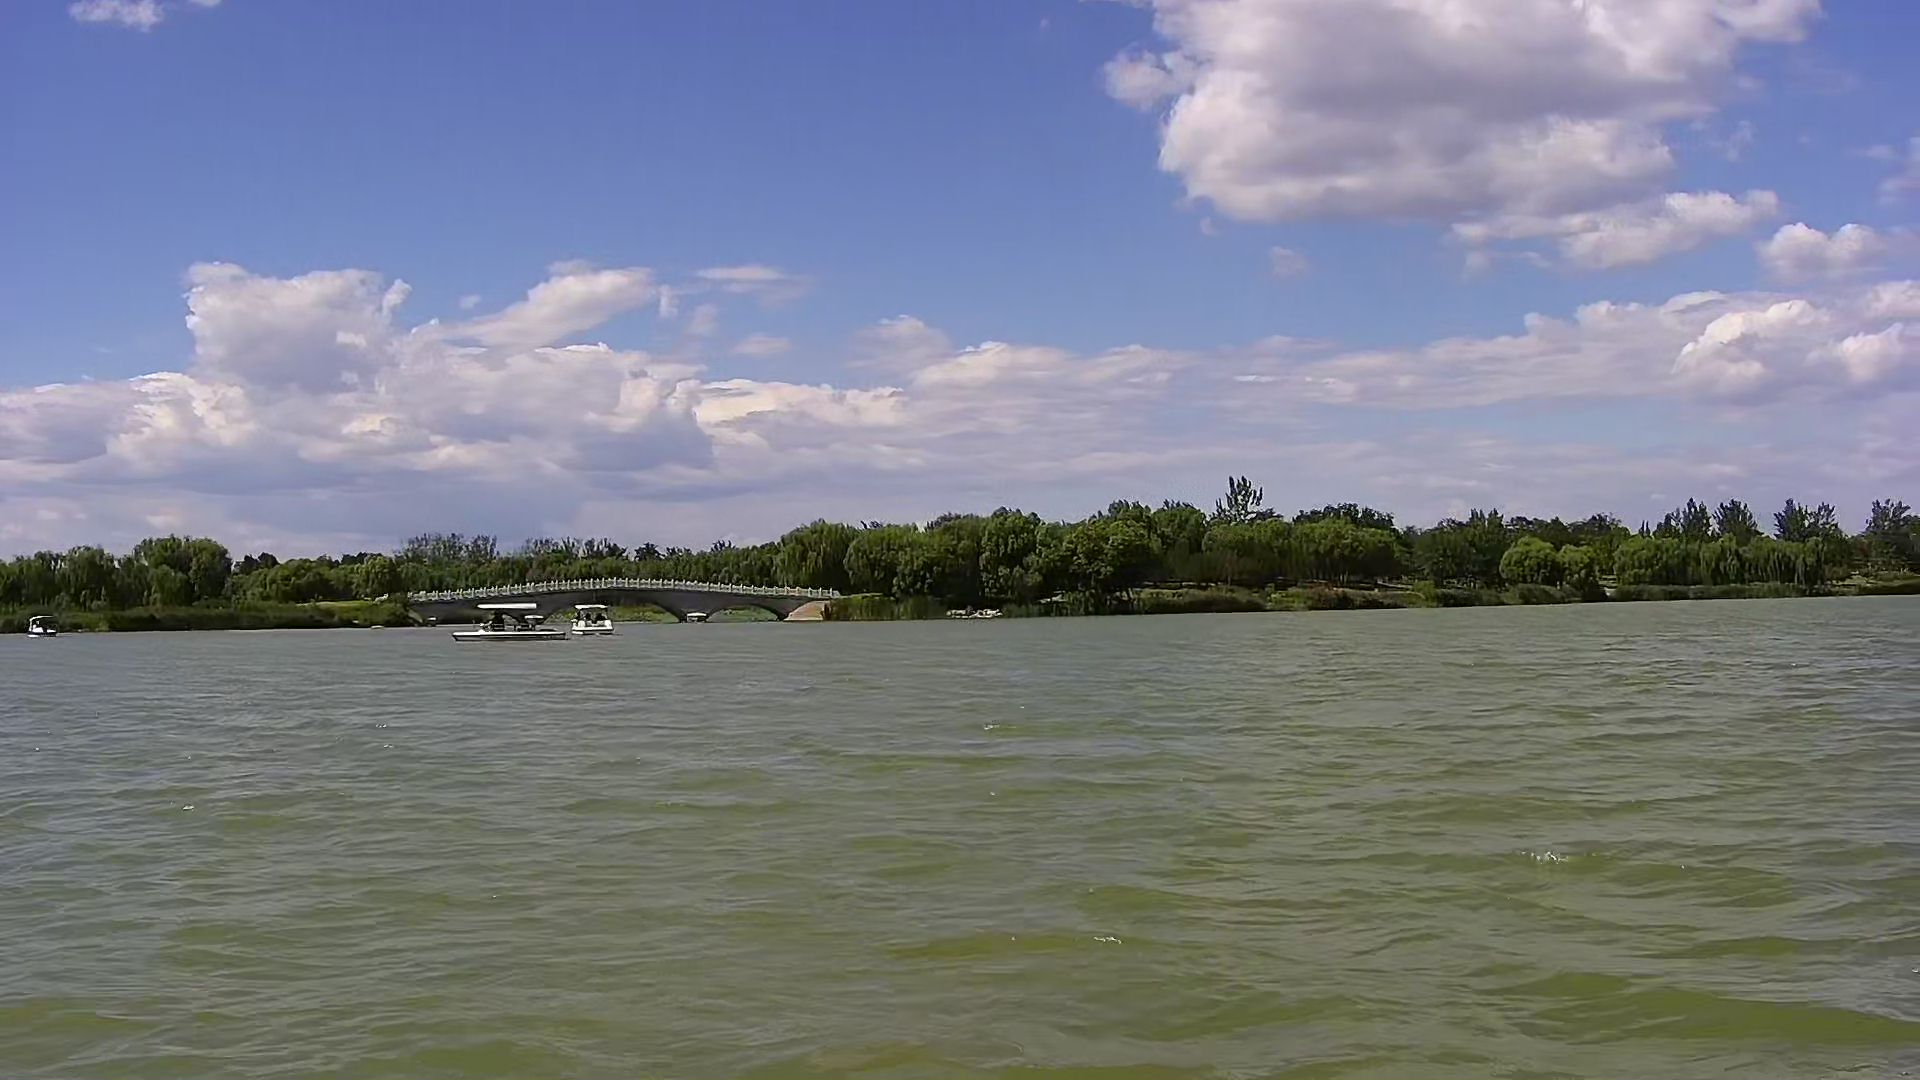boat: (455, 603, 560, 647), (564, 603, 621, 651), (25, 608, 59, 646)
bridge: (407, 578, 839, 624)
